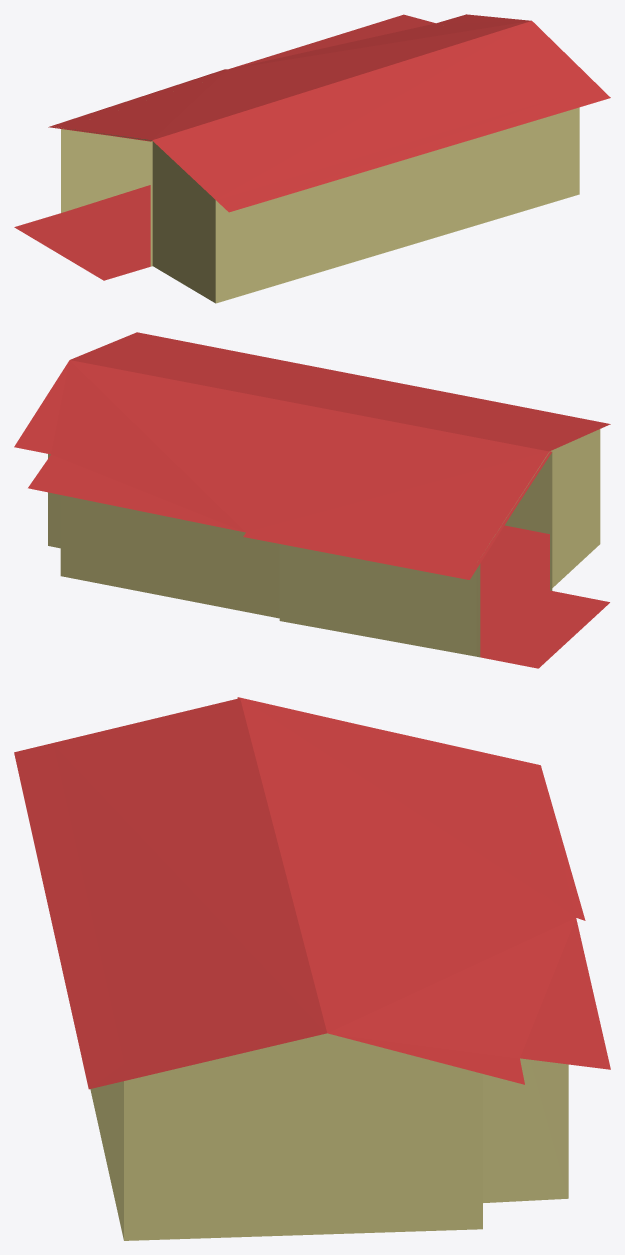
The picture shows the model from 3 angles, top to bottom: view 1: azimuth 30°, elevation 25°; view 2: azimuth 150°, elevation 25°; view 3: azimuth 270°, elevation 25°; orthographic projection. The views are drawn at different scales.
Size of the model in its own units: 36.4 by 22.98 by 9.24.
